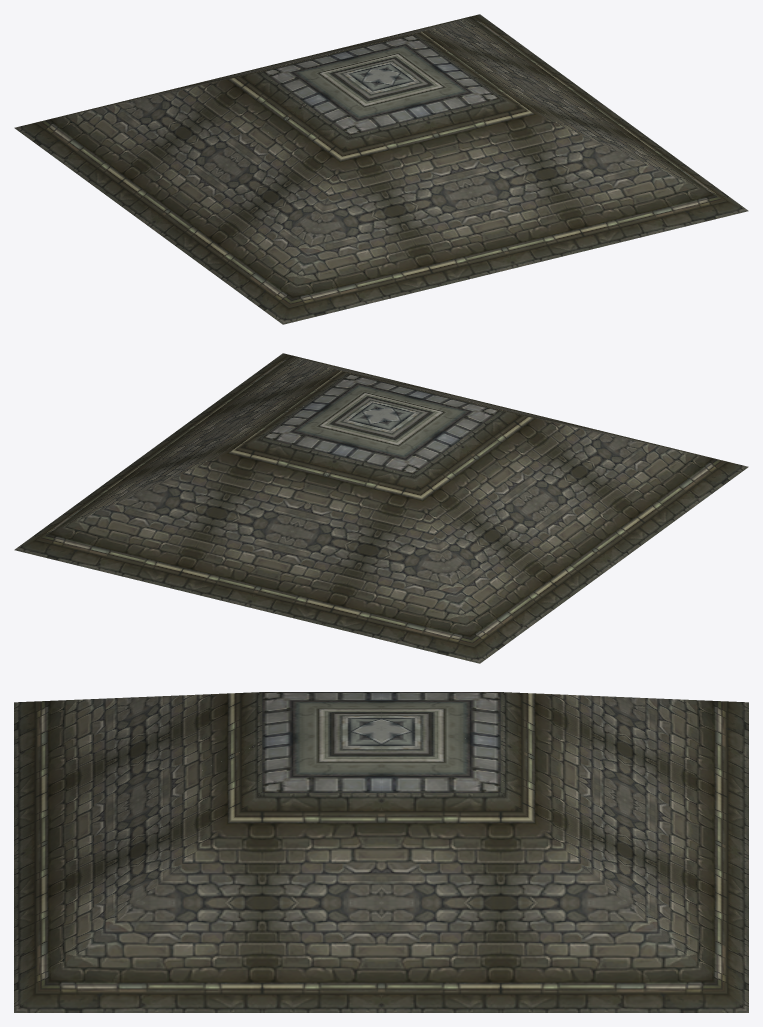
3 renders of one model, top to bottom at view 1: azimuth 30°, elevation 25°; view 2: azimuth 150°, elevation 25°; view 3: azimuth 270°, elevation 25°, orthographic. The views are drawn at different scales.
Visible parts, largest first — view 1: DN_1_4_dt01c_a; view 2: DN_1_4_dt01c_a; view 3: DN_1_4_dt01c_a.
Part boxes in pixels (x1,y1,x2,y2): DN_1_4_dt01c_a: (14,14,748,324); DN_1_4_dt01c_a: (14,353,748,663); DN_1_4_dt01c_a: (14,692,748,1012).
Bounding box in the file's own units: 1946 × 379 × 1946.
